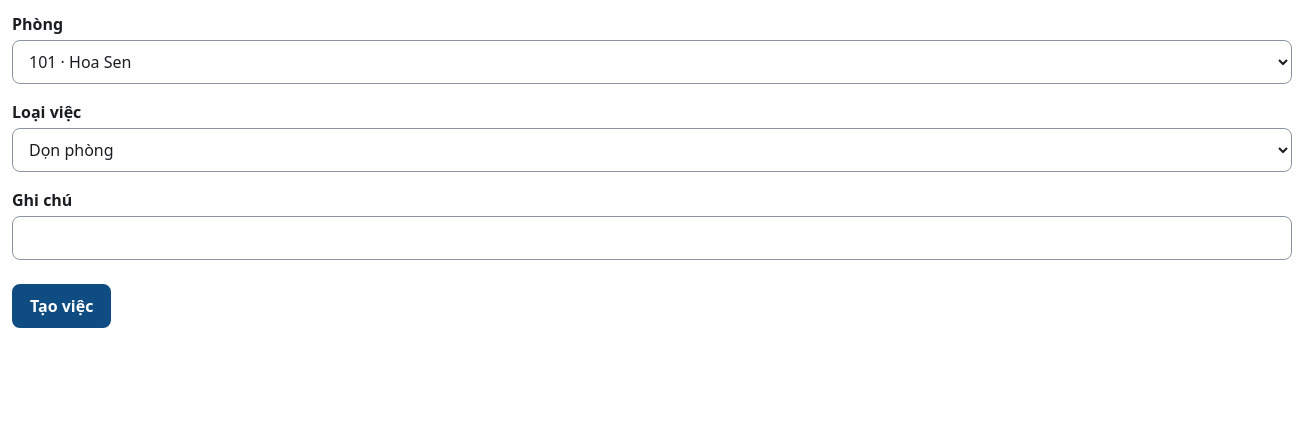
Test case: CommandForm › 5xx: KHÔNG lộ `detail` nội bộ của server; chỉ câu chung kèm mã tra cứu
The image size is (1304, 433).
Click the button "Tạo việc" at [62, 306], box [12, 284, 111, 328]
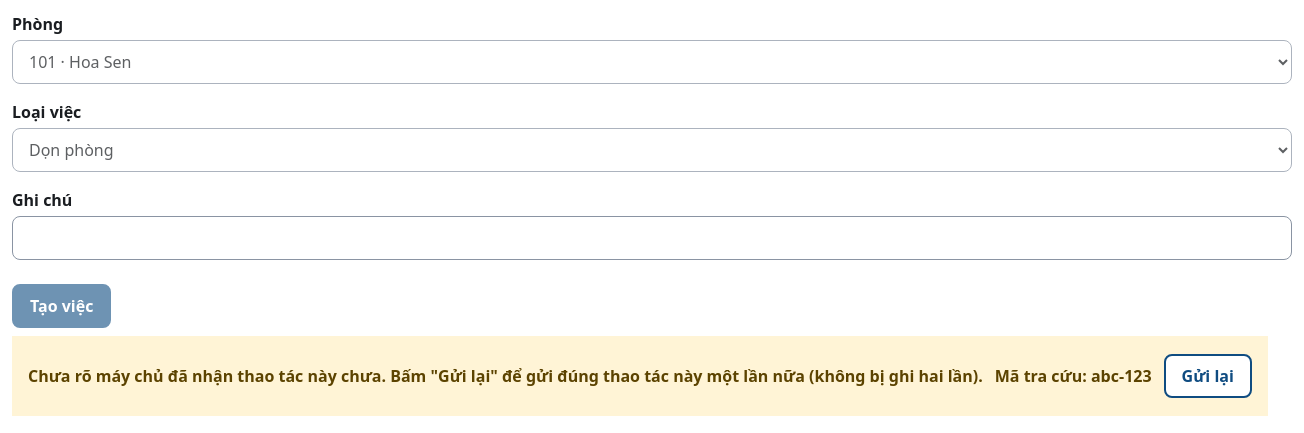
Result: the message shows "Mã tra cứu: abc-123" at [995, 365, 1152, 387]
Result: the button "Gửi lại" is shown at [1164, 354, 1252, 398]
